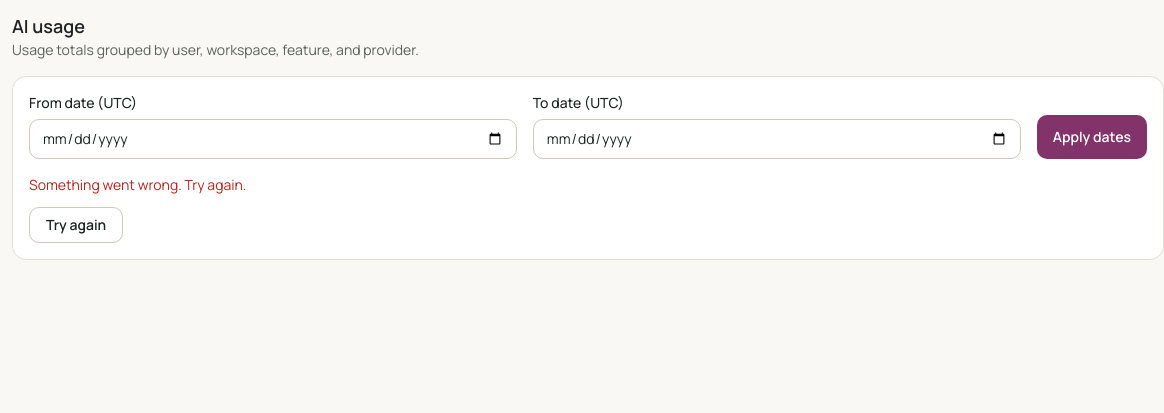
Scenario: Admin pages › TC-ADM-02: shows a retryable error when AI usage fails to load
Expected: the message shows "Something went wrong. Try again.", [29,175,246,194]
Click the button "Try again": (76,225) [29,207,123,243]
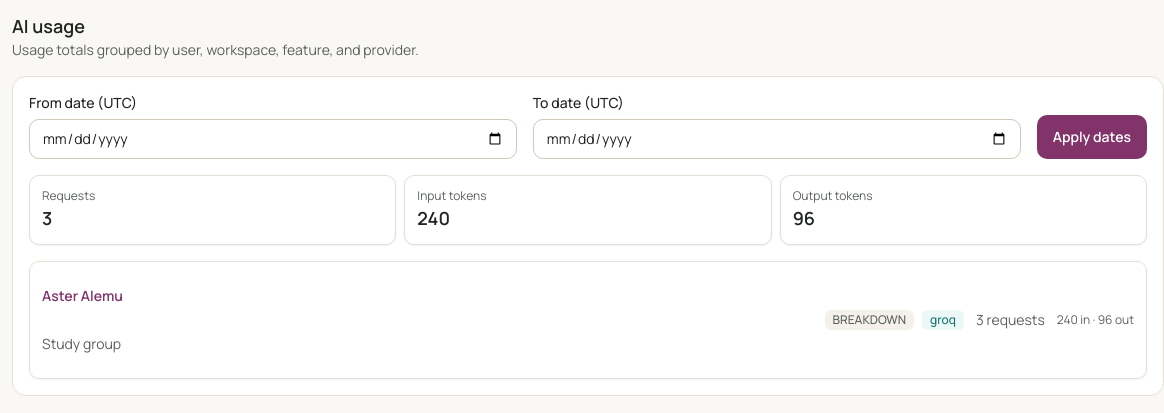
Now the button "Study group" is shown, box [42,322,121,366]
